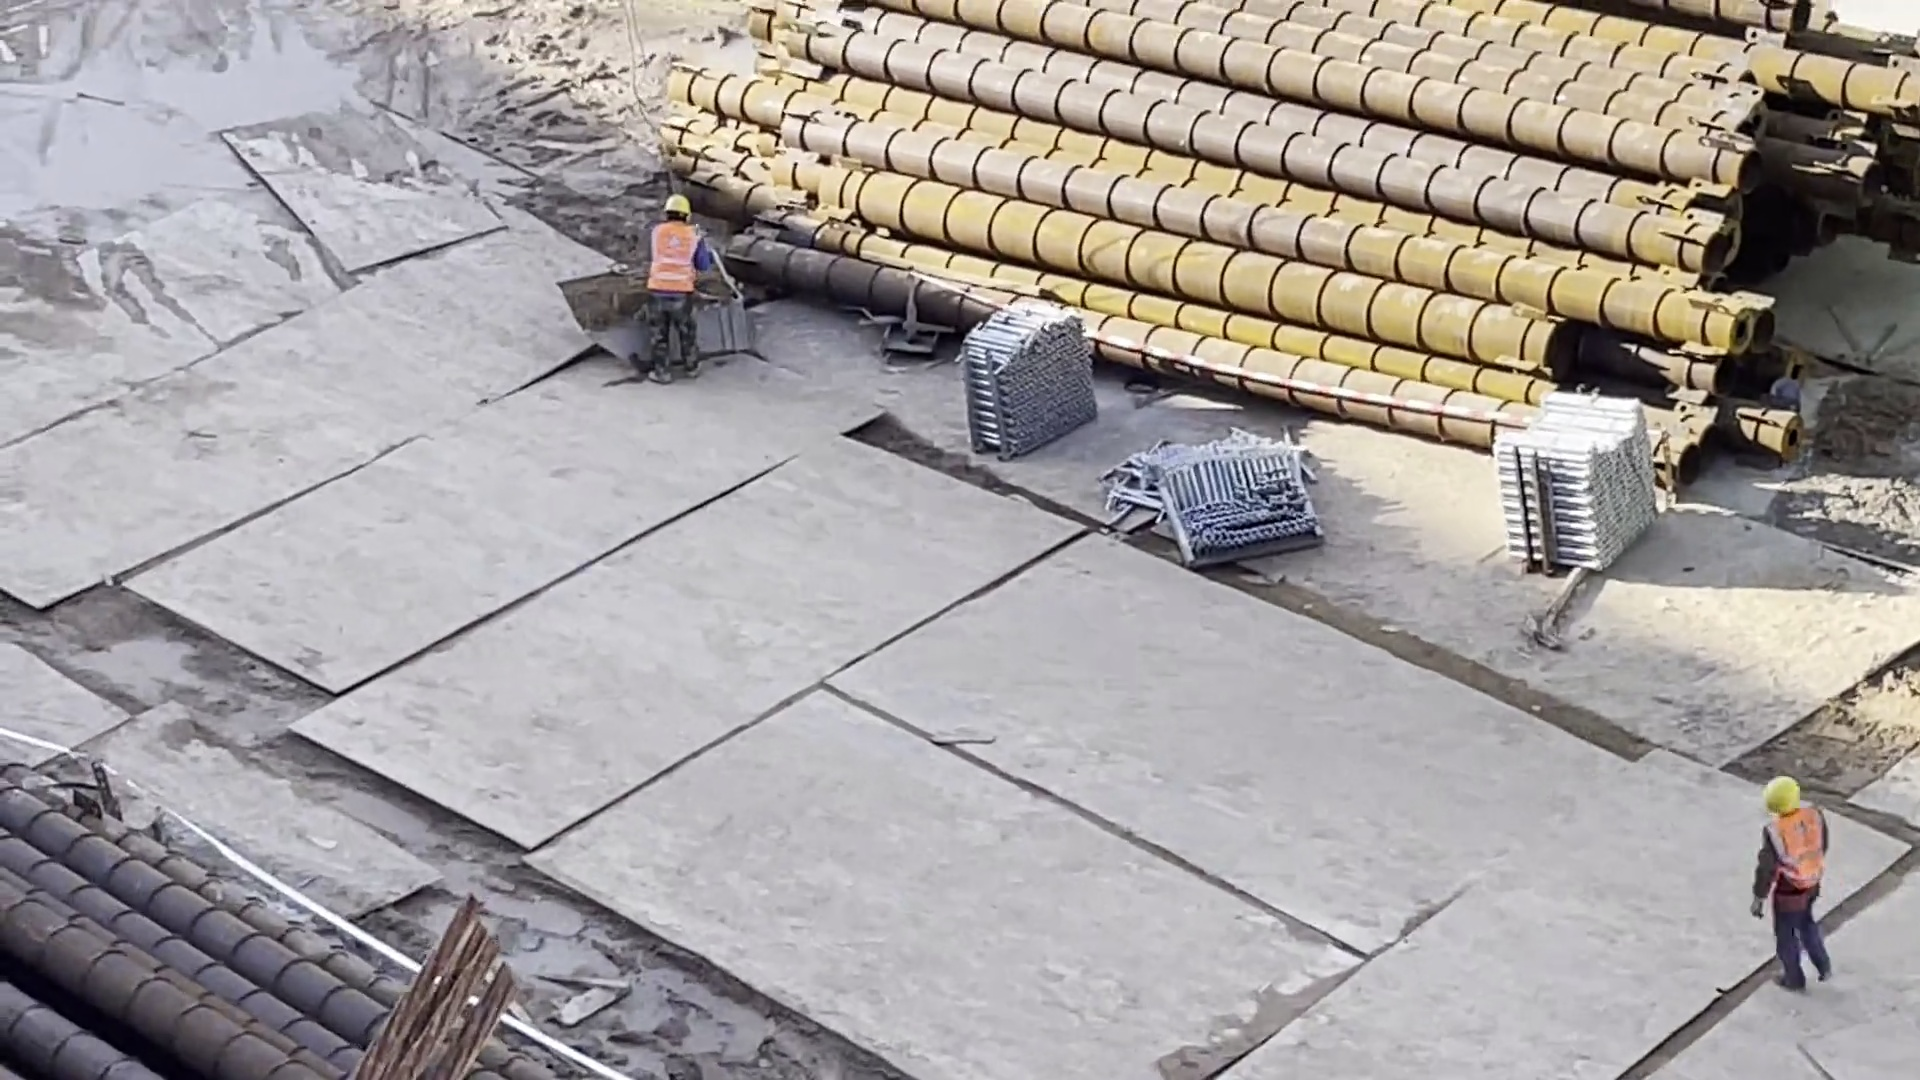helmet: (1758, 768, 1806, 815), (660, 187, 699, 222)
person: (1729, 746, 1869, 997), (625, 180, 730, 387)
scaffold: (1476, 365, 1659, 595), (939, 282, 1107, 479)
vest: (1754, 797, 1844, 901), (636, 213, 701, 308)
